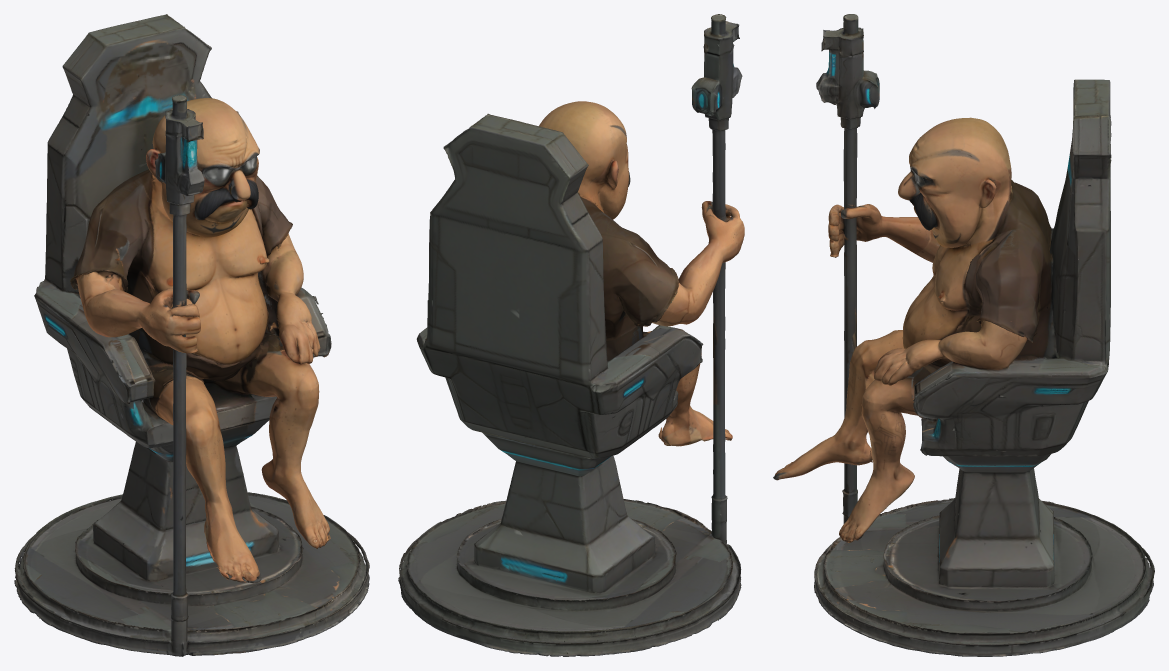
Rendered from Galactic_Overlord_Thr.glb.
The picture shows the model from 3 angles, left to right: view 1: azimuth 30°, elevation 25°; view 2: azimuth 150°, elevation 25°; view 3: azimuth 270°, elevation 25°; orthographic projection. The views are drawn at different scales.
Size of the model in its own units: 1.16 by 2 by 1.3.
1 material, 1 textured.
